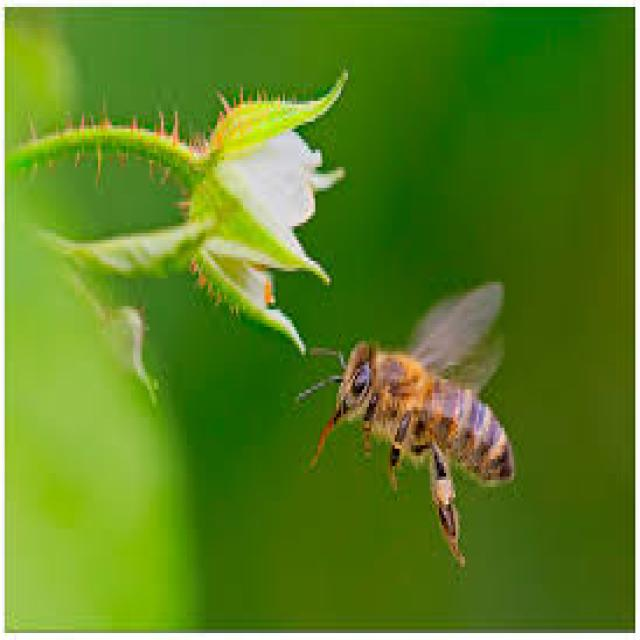Bees: (296, 266, 515, 566)
